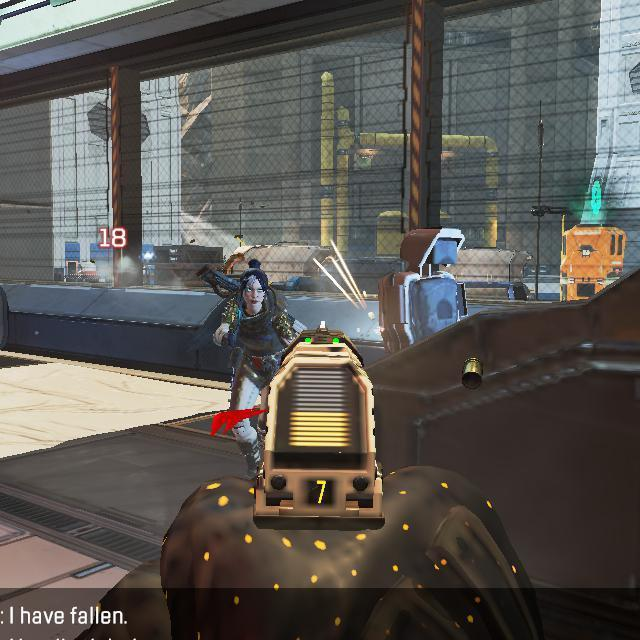avatar: (211, 256, 295, 391)
